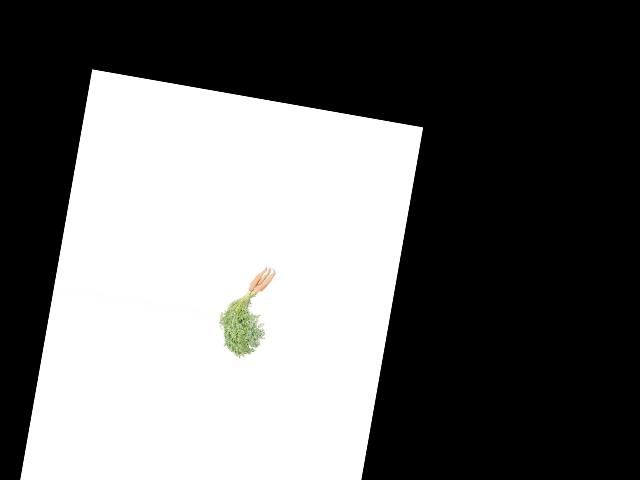carrot: (253, 269, 275, 297)
